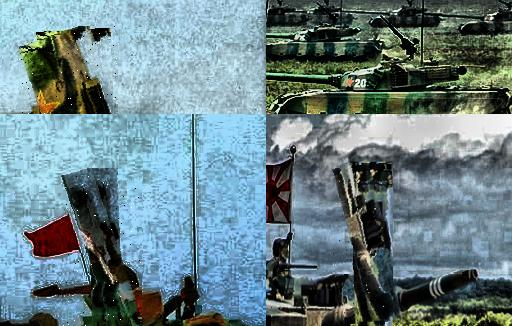tanks: (267, 58, 512, 115), (62, 177, 142, 326), (334, 165, 394, 324), (21, 27, 111, 115), (267, 25, 386, 62), (429, 1, 512, 35), (346, 1, 423, 28), (268, 1, 309, 28), (323, 1, 341, 27), (308, 7, 334, 25), (425, 11, 443, 28), (370, 18, 386, 28), (344, 15, 355, 27)
